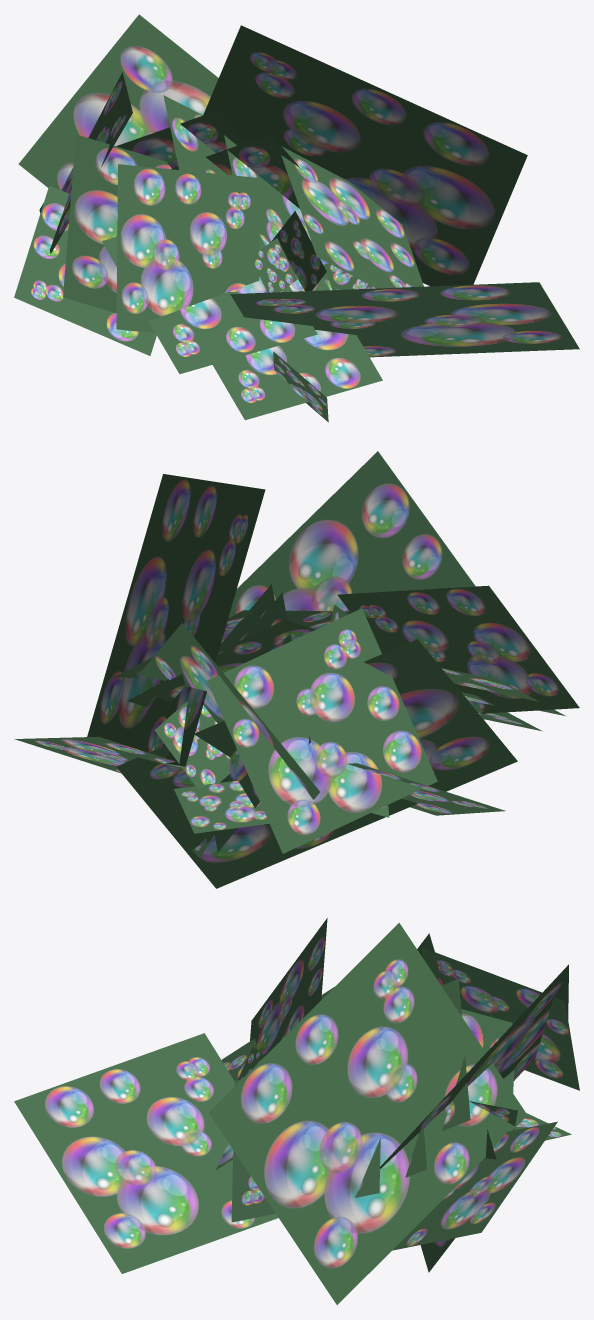
Rendered from track7Dust.glb.
The picture shows the model from 3 angles, top to bottom: view 1: azimuth 30°, elevation 25°; view 2: azimuth 150°, elevation 25°; view 3: azimuth 270°, elevation 25°; orthographic projection. The views are drawn at different scales.
Visible parts, largest first — view 1: smoke; view 2: smoke; view 3: smoke.
Boxes of the visible parts, <box> form: smoke: <box>14,14,579,422</box>; smoke: <box>14,451,579,888</box>; smoke: <box>14,918,579,1304</box>.
Size of the model in its own units: 1.45 by 1.16 by 1.77.
1 material, 1 textured.
